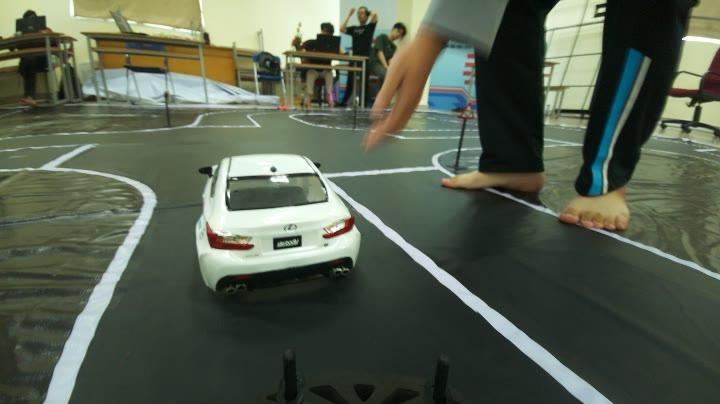car: (202, 139, 357, 291)
